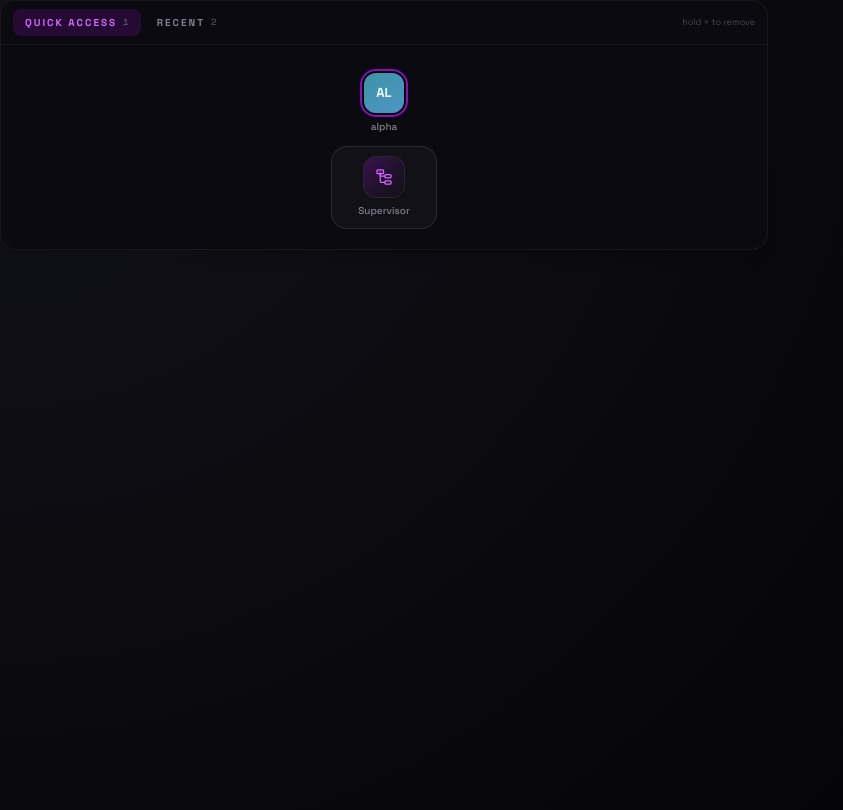
ProjectSwitcher › shows the recents once their tab is chosen, and only those
The width and height of the screenshot is (843, 810).
Click the tab with test id "project-switcher-tab-recent".
click(187, 22)  # box [145,9,229,36]
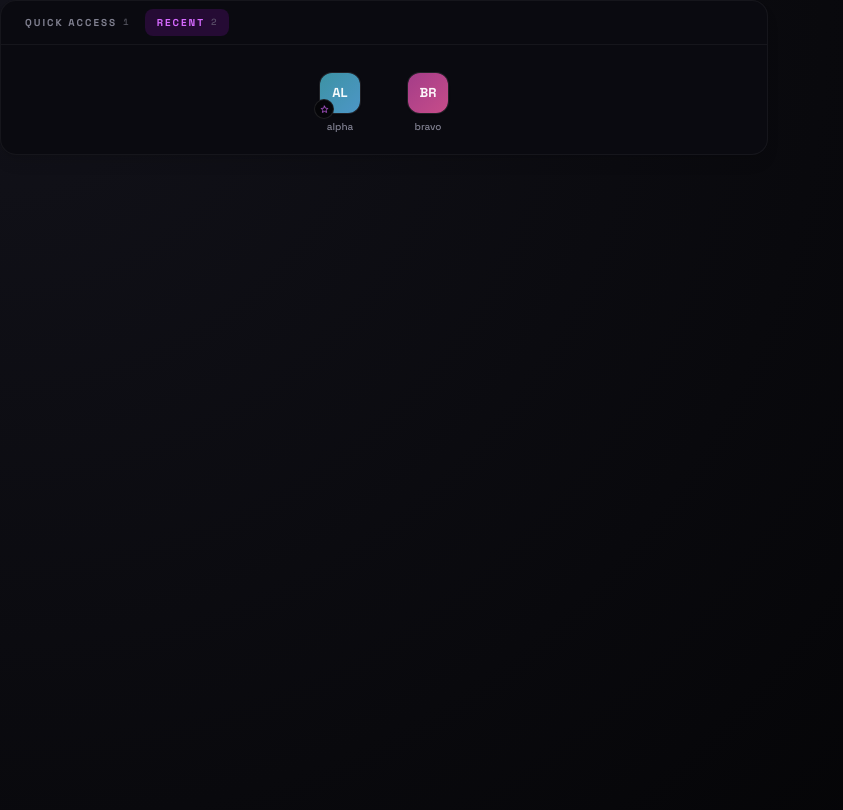
Expected: the element with test id "recent-projects" is shown, [314,73,448,133]
Expected: the element with test id "quick-access" is gone
